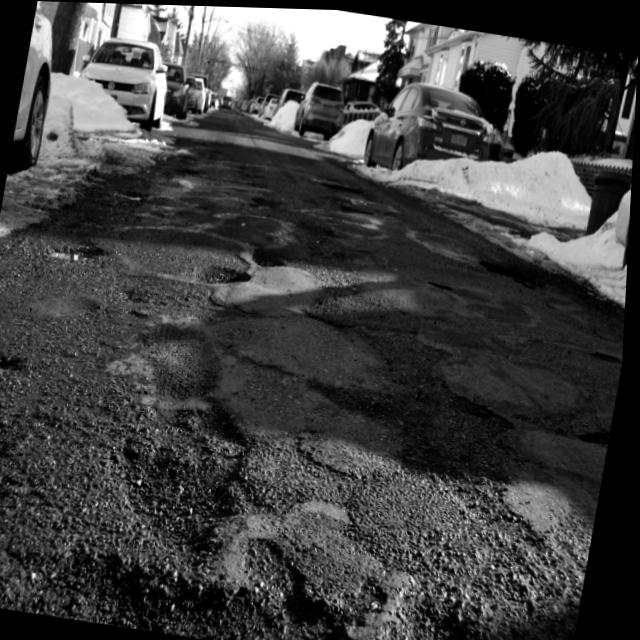pathole: (0, 296, 552, 640), (64, 129, 359, 380), (373, 339, 624, 572), (417, 228, 630, 420), (299, 152, 415, 257), (24, 191, 118, 275)
